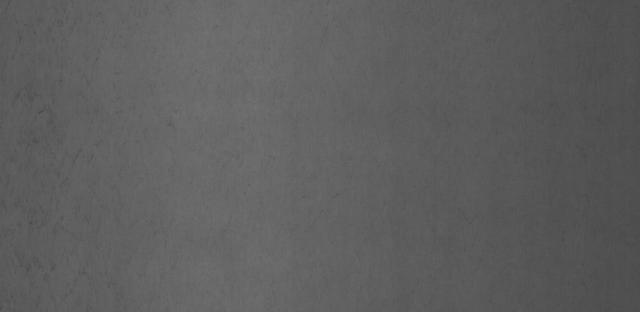silk_spot: (9, 48, 123, 268)
